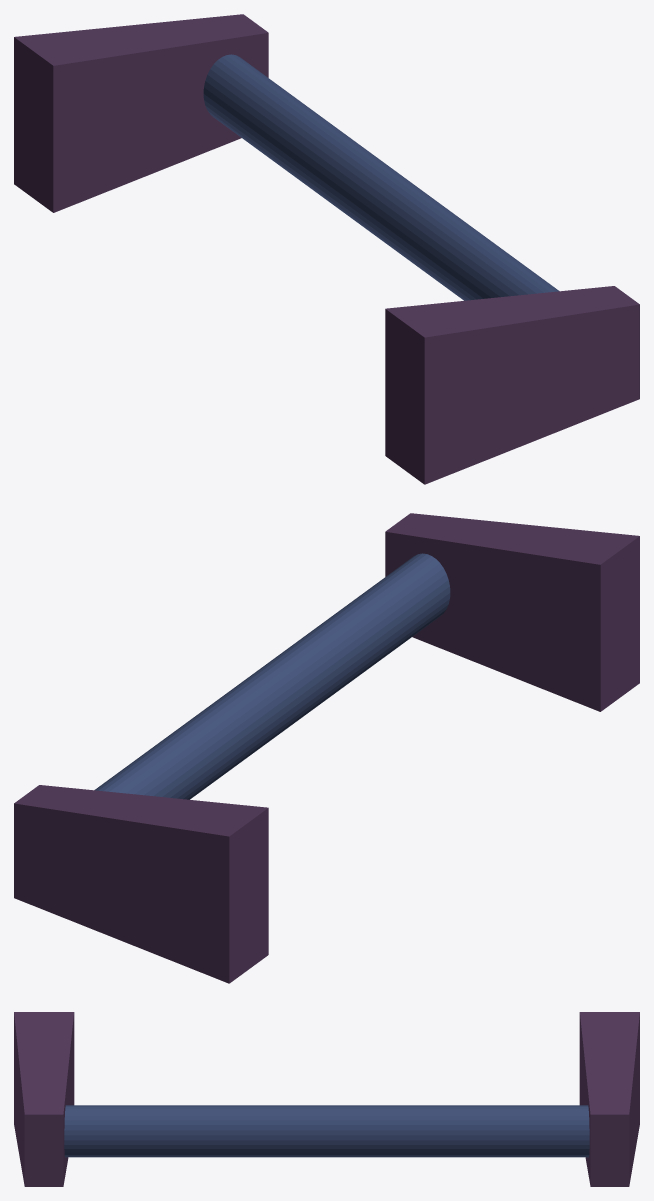
File: Toallero.obj
The picture shows the model from 3 angles, top to bottom: view 1: azimuth 30°, elevation 25°; view 2: azimuth 150°, elevation 25°; view 3: azimuth 270°, elevation 25°; orthographic projection. The views are drawn at different scales.
Visible parts, largest first — view 1: Cube.008_Cube.018; view 2: Cube.008_Cube.018; view 3: Cube.008_Cube.018.
Part boxes in pixels (x1,y1,x2,y2): Cube.008_Cube.018: [14, 14, 639, 484]; Cube.008_Cube.018: [14, 513, 639, 983]; Cube.008_Cube.018: [14, 1012, 639, 1186].
Bounding box in the file's own units: 2.36 × 1.49 × 7.54.
1 material, 1 textured.
